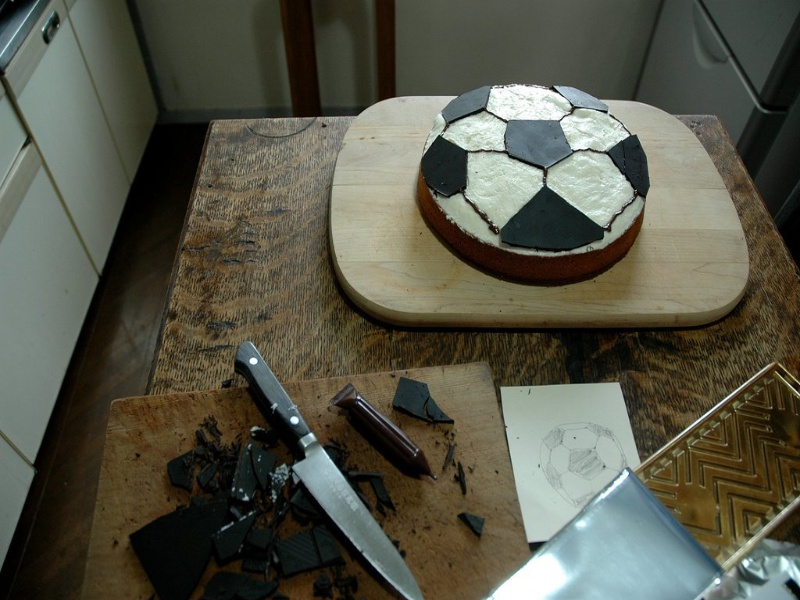knife: (303, 78, 740, 506)
